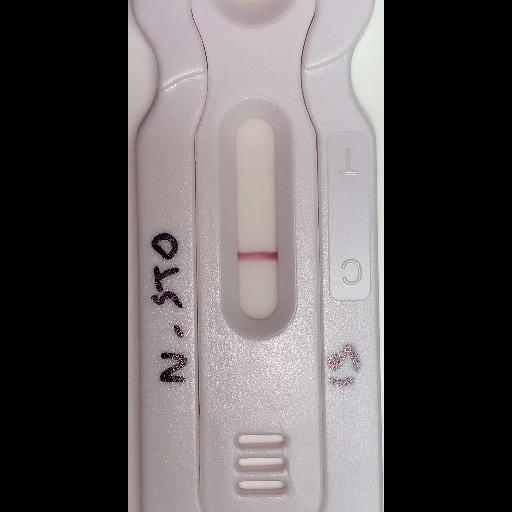Neg: (133, 0, 383, 511)
